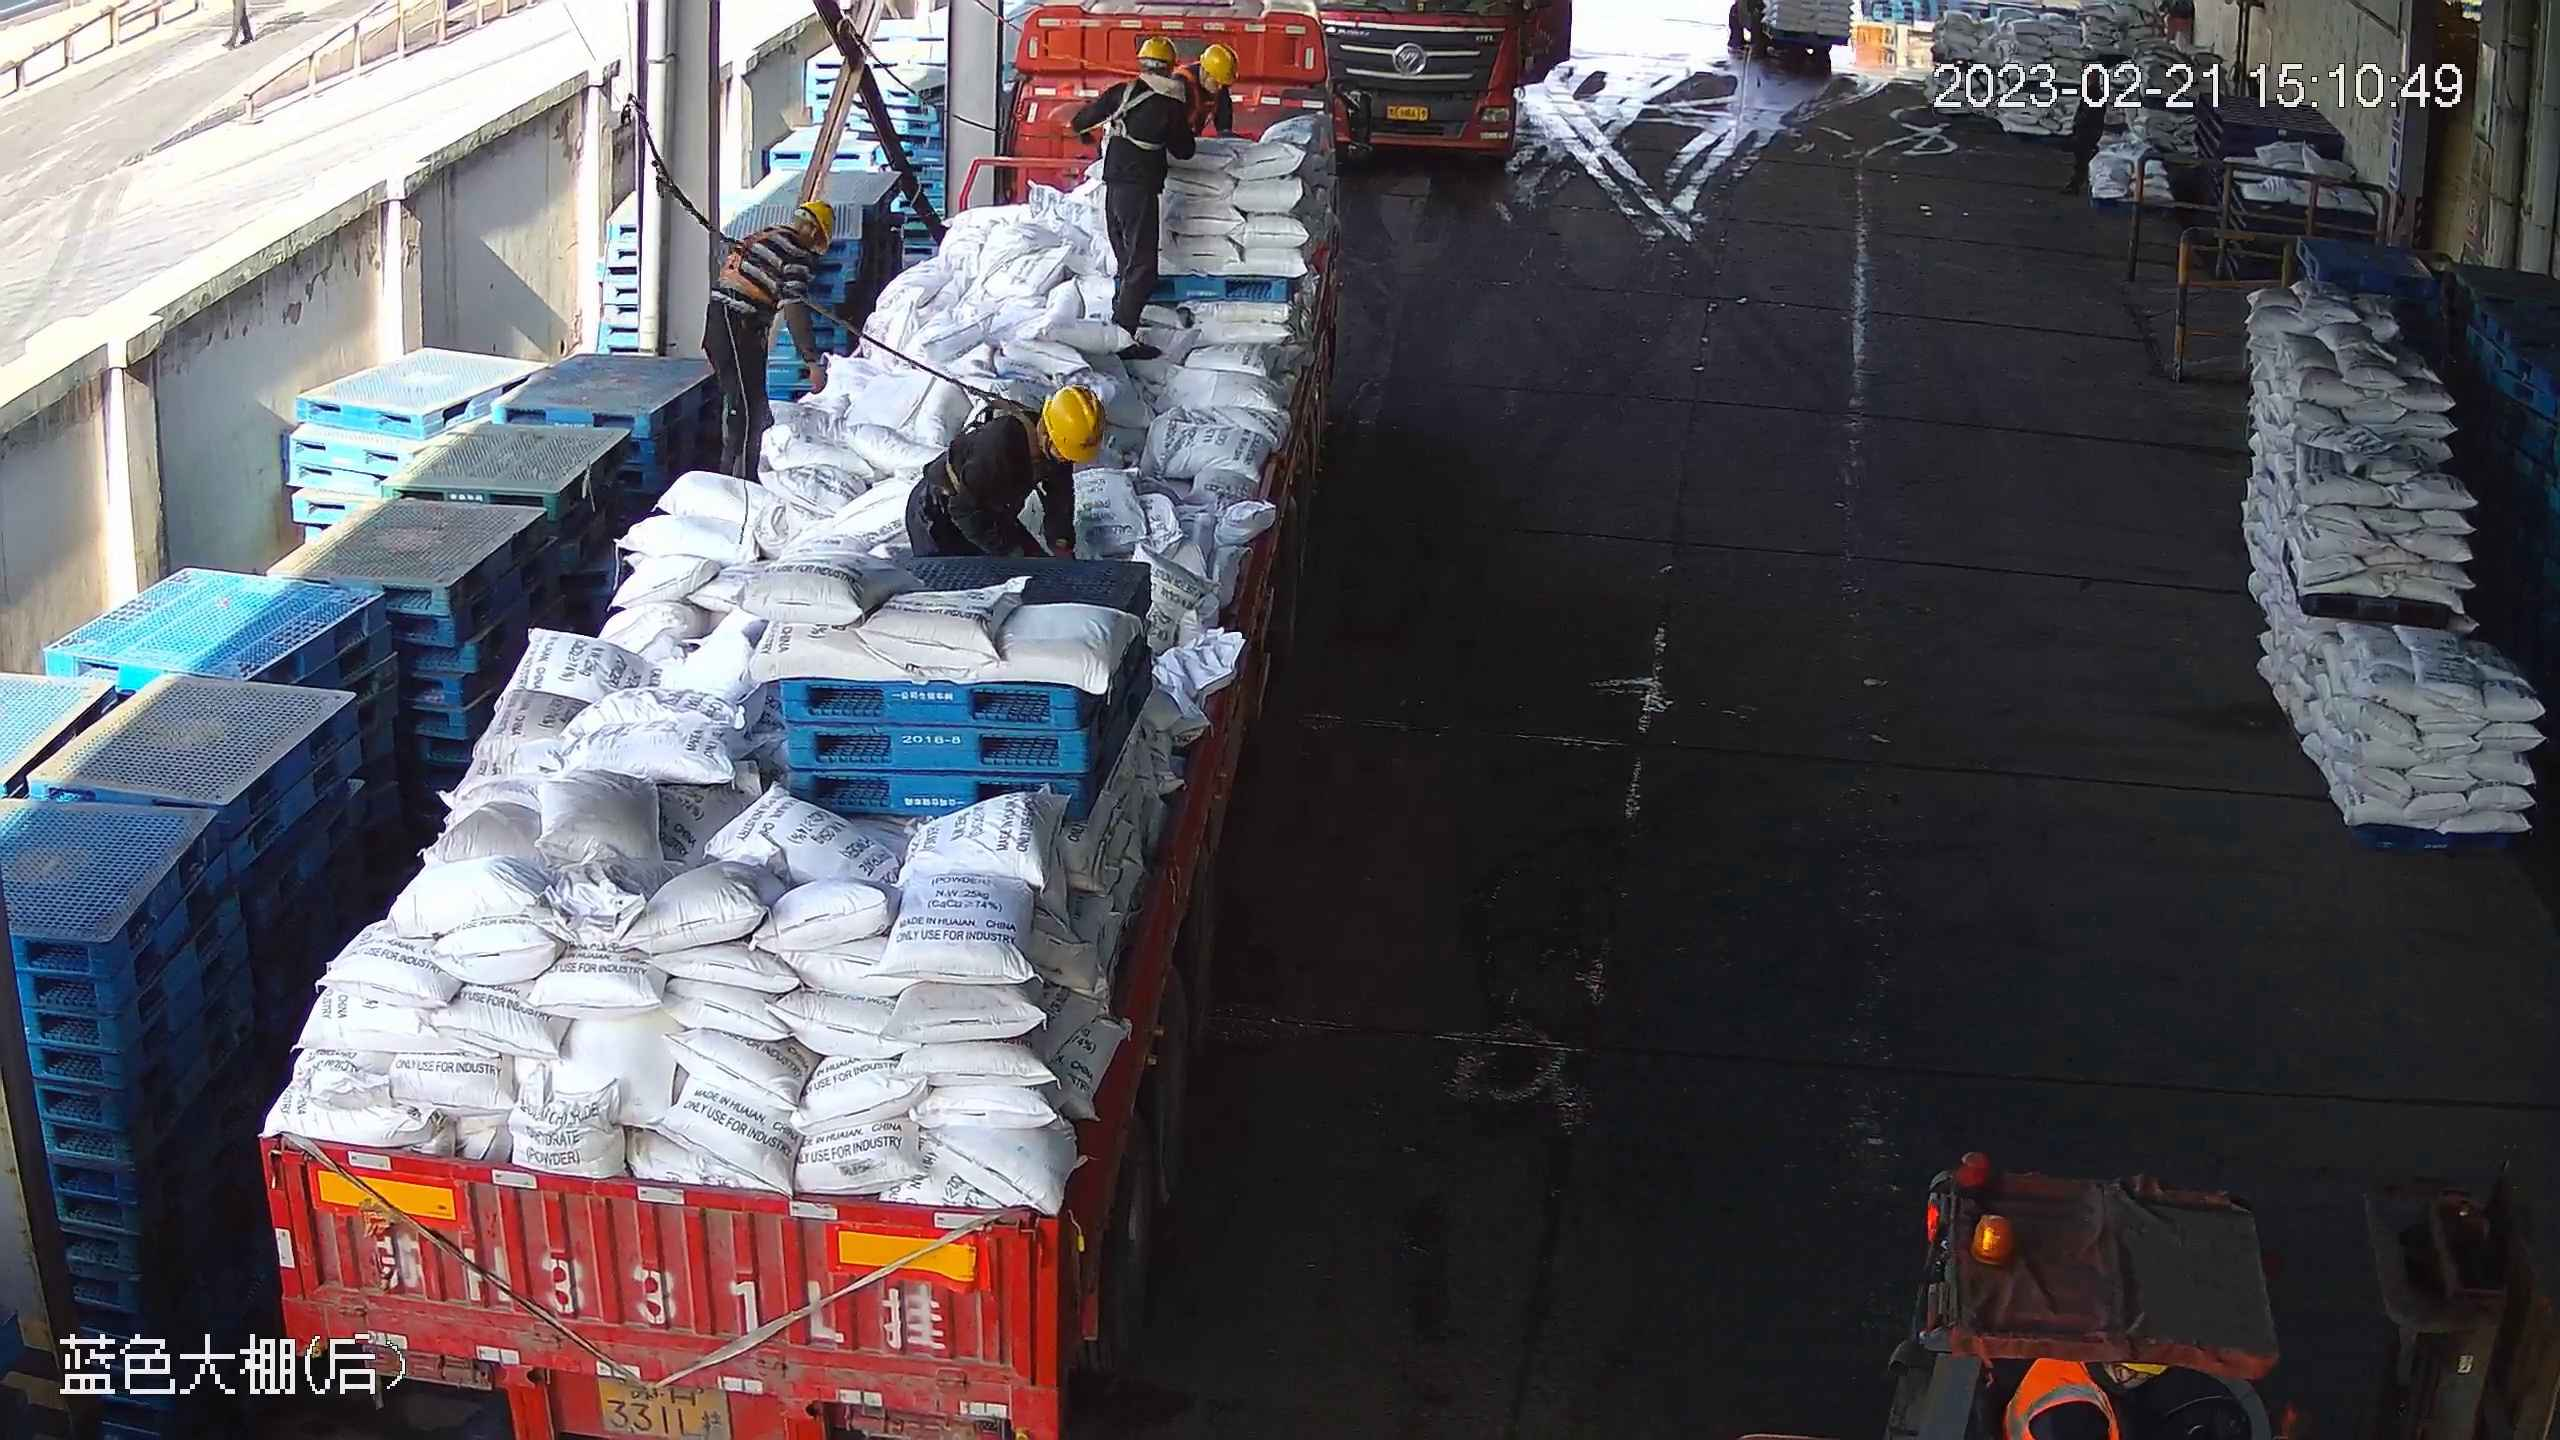belt: (940, 374, 1037, 498), (1098, 78, 1176, 159), (720, 225, 788, 303)
head: (981, 381, 1103, 491), (1096, 33, 1191, 140), (732, 200, 839, 291), (1181, 30, 1242, 127)
helmet: (1039, 388, 1098, 464), (1196, 39, 1239, 88), (798, 200, 835, 256), (1134, 30, 1176, 71)
people: (1074, 32, 1198, 359), (906, 378, 1100, 559), (705, 201, 835, 472)
truck: (244, 1, 1342, 1440), (1316, 1, 1575, 172)
